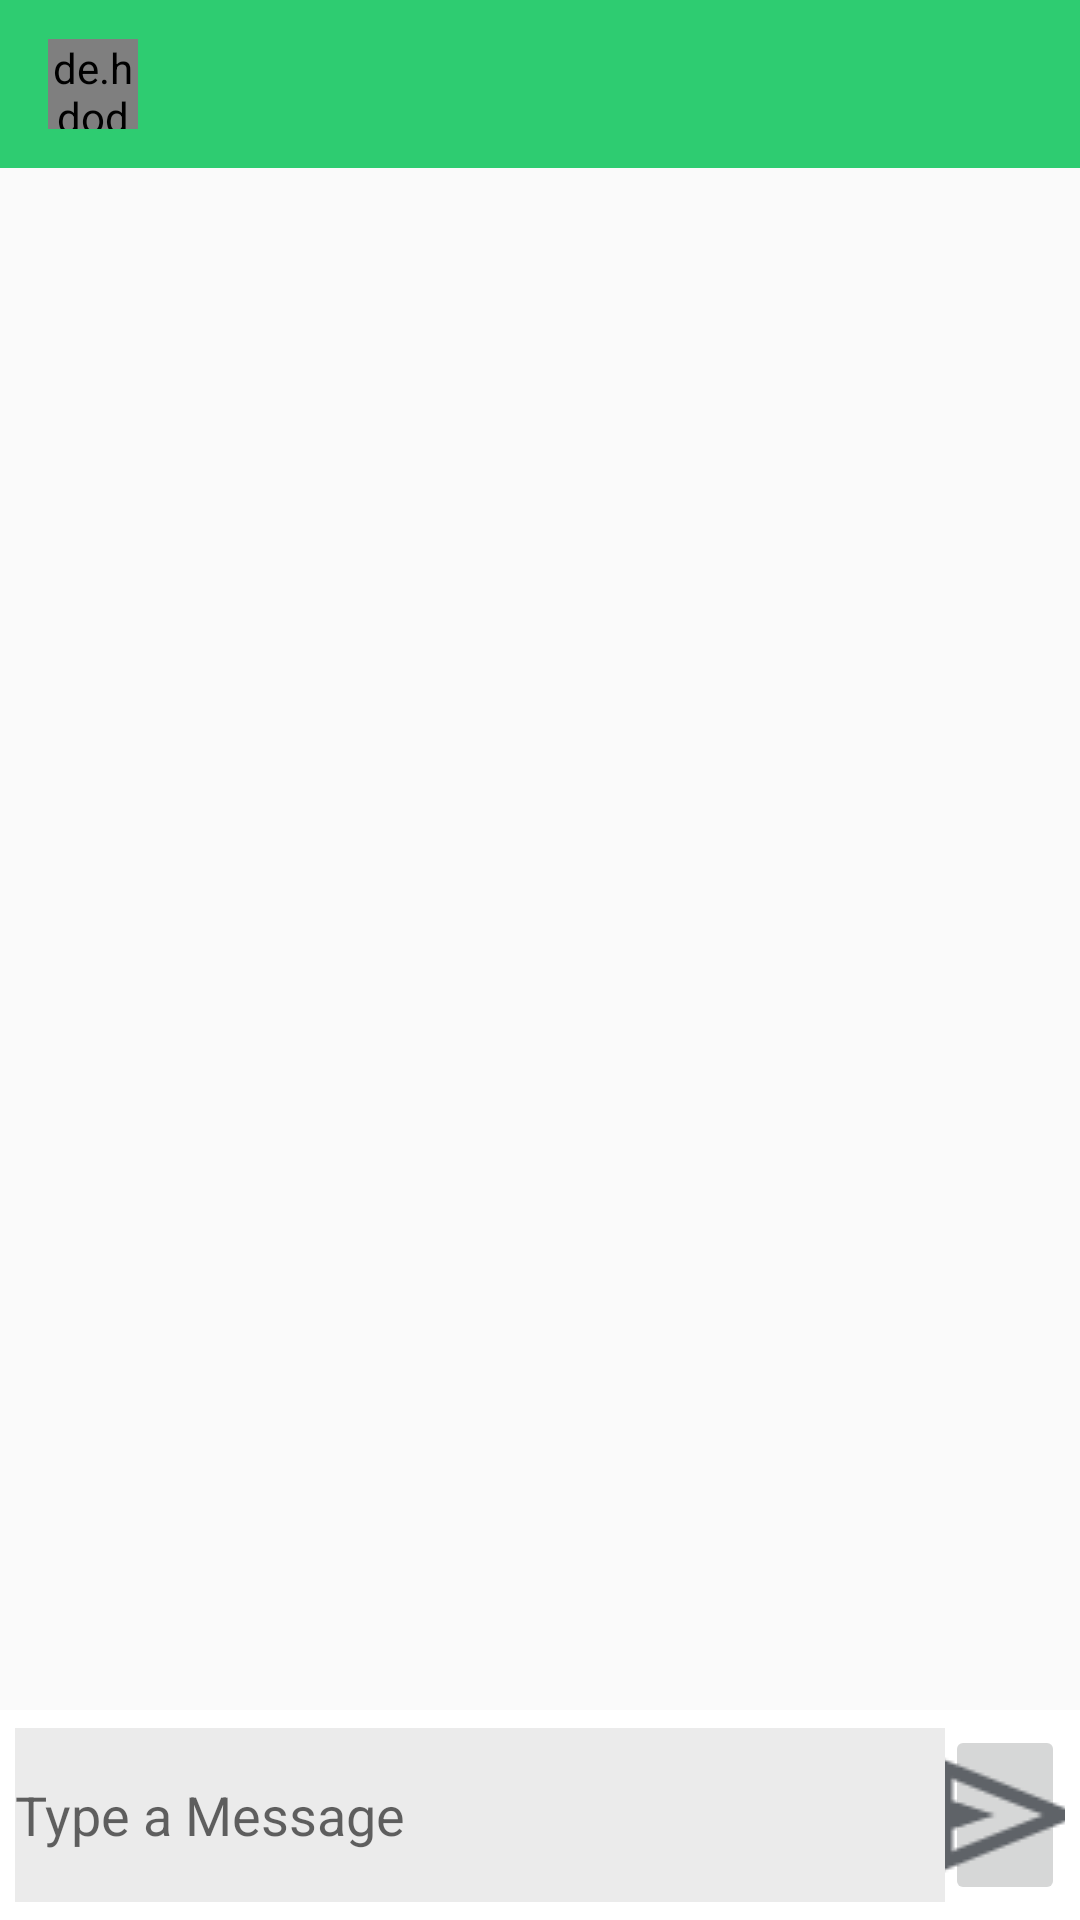

Where to tap for icons on this 1080 x 1920 app screen, as point (x, y):
send: point (1005, 1815)
